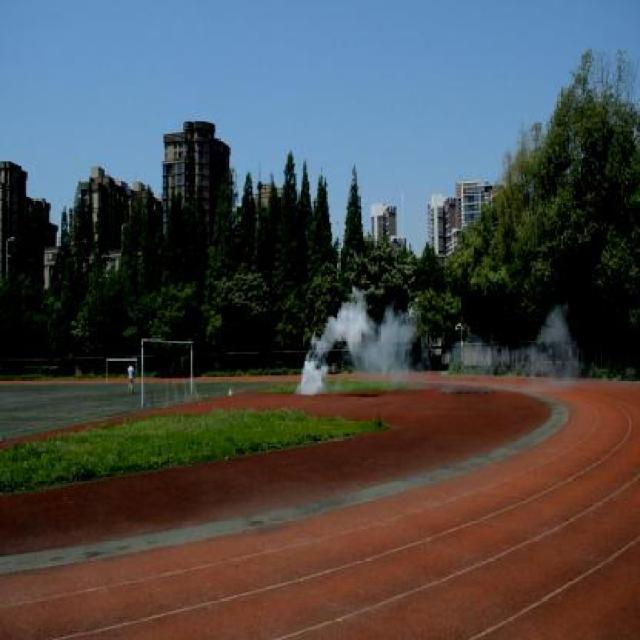Smoke: (294, 293, 582, 398)
